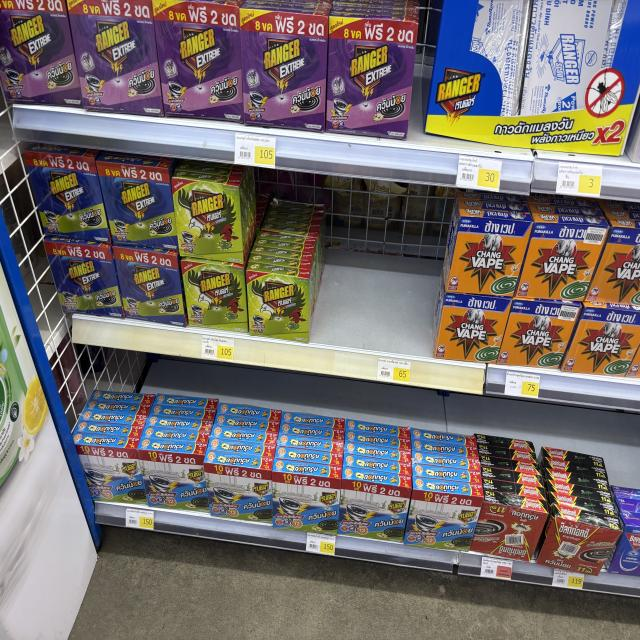empty_shelf: (327, 185, 434, 354)
